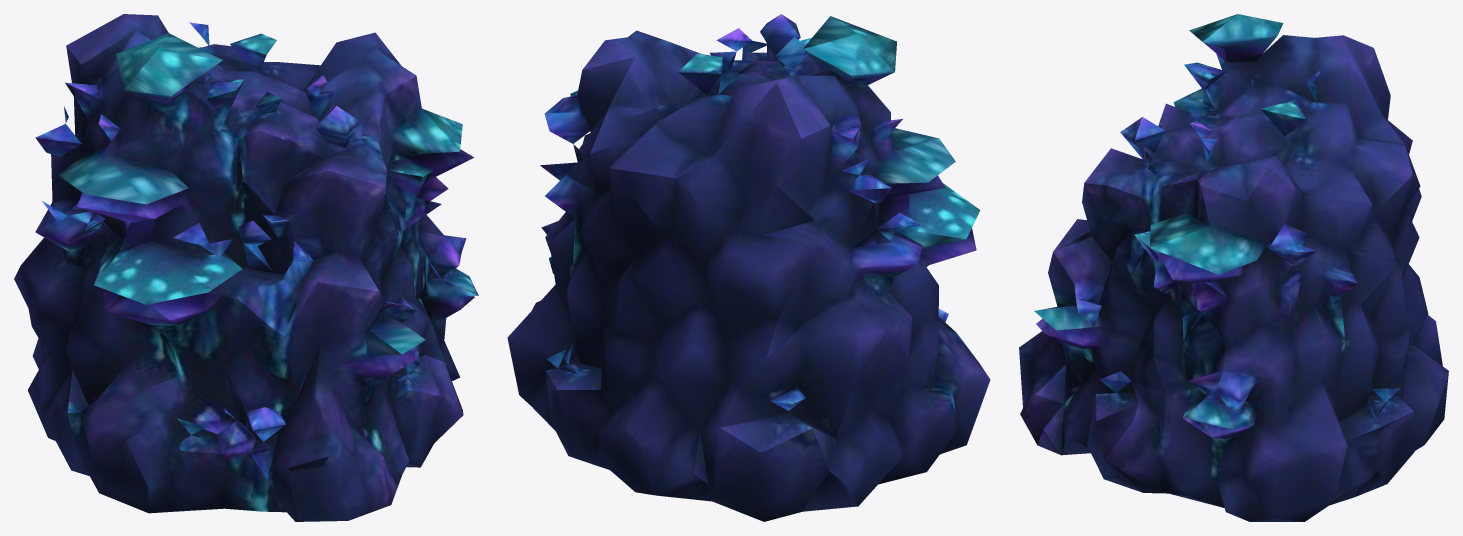
File: d_mycelium_massif.glb
3 renders of one model, left to right at view 1: azimuth 30°, elevation 25°; view 2: azimuth 150°, elevation 25°; view 3: azimuth 270°, elevation 25°, orthographic. The views are drawn at different scales.
Visible parts, largest first — view 1: geometry_0; view 2: geometry_0; view 3: geometry_0.
Part boxes in pixels (left/top/right/bottom): geometry_0: left=14, top=14, right=478, bottom=521; geometry_0: left=507, top=14, right=990, bottom=521; geometry_0: left=1019, top=14, right=1448, bottom=521.
Size of the model in its own units: 1 by 0.9721 by 0.9811.
1 material, 1 textured.
